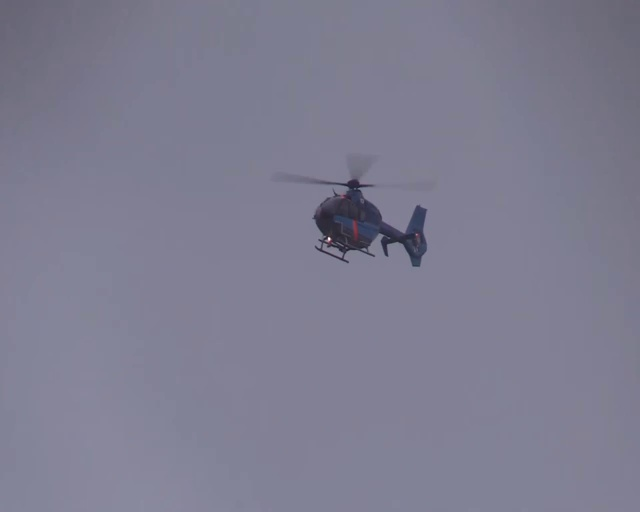HELICOPTER: (270, 152, 436, 267)
